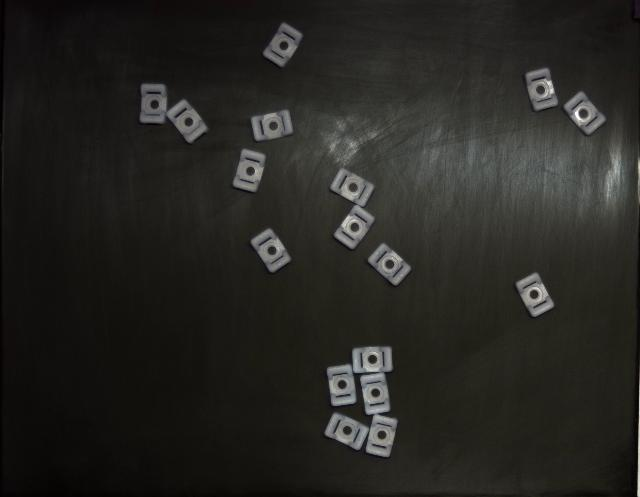first_side: (562, 91, 606, 136), (166, 100, 209, 144), (250, 229, 291, 274), (334, 205, 375, 250), (262, 22, 302, 68), (368, 244, 411, 286), (515, 272, 554, 318), (330, 169, 375, 208), (324, 412, 369, 450), (232, 149, 266, 192), (525, 68, 559, 111), (366, 415, 398, 458), (251, 110, 294, 141), (360, 372, 390, 415), (140, 84, 168, 125), (328, 365, 356, 406), (352, 346, 392, 374)
